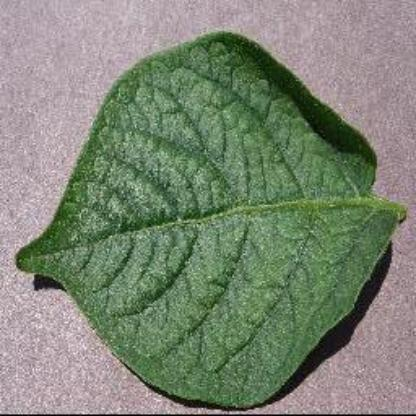Healthy-plant: (14, 32, 406, 414)
